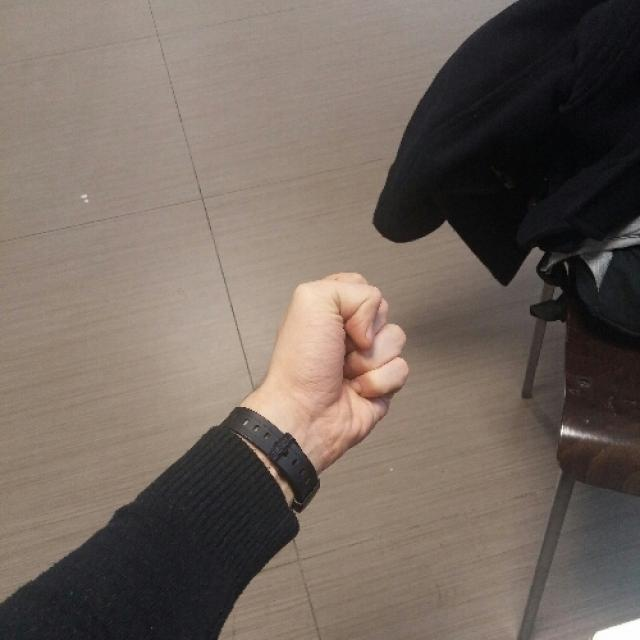rock: (241, 266, 413, 459)
